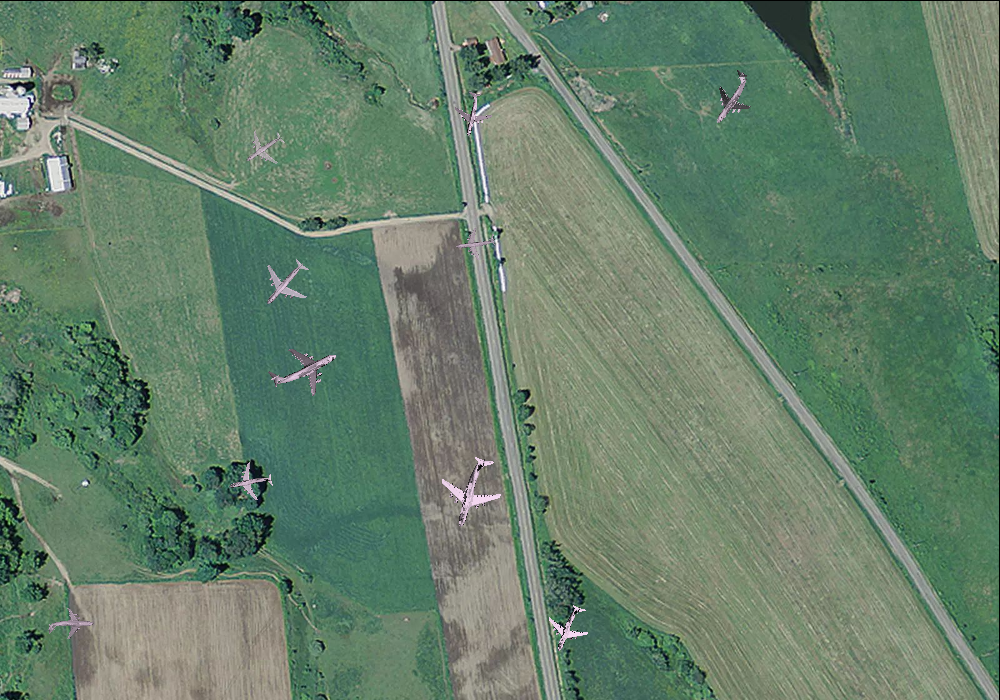plane: (257, 324, 348, 412), (429, 447, 515, 536), (248, 246, 322, 320), (695, 60, 767, 134), (538, 597, 600, 660), (234, 119, 293, 177), (446, 87, 497, 139), (224, 457, 276, 508), (46, 606, 93, 646), (453, 222, 497, 263)
